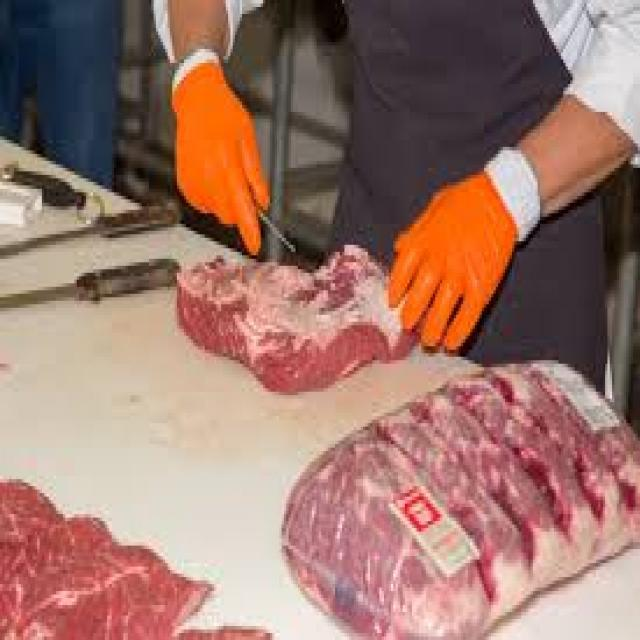Wet: (265, 342, 639, 640), (0, 458, 272, 640), (146, 239, 438, 403)
